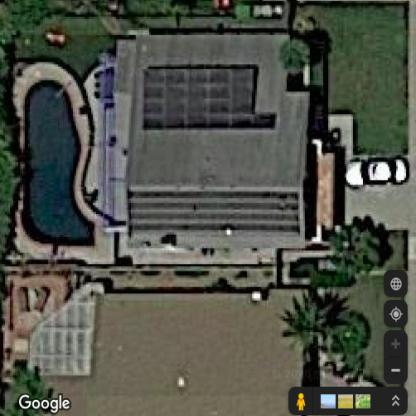car: (346, 145, 406, 194)
solar_panel: (132, 51, 284, 140)
swimming_pool: (6, 57, 104, 257)
